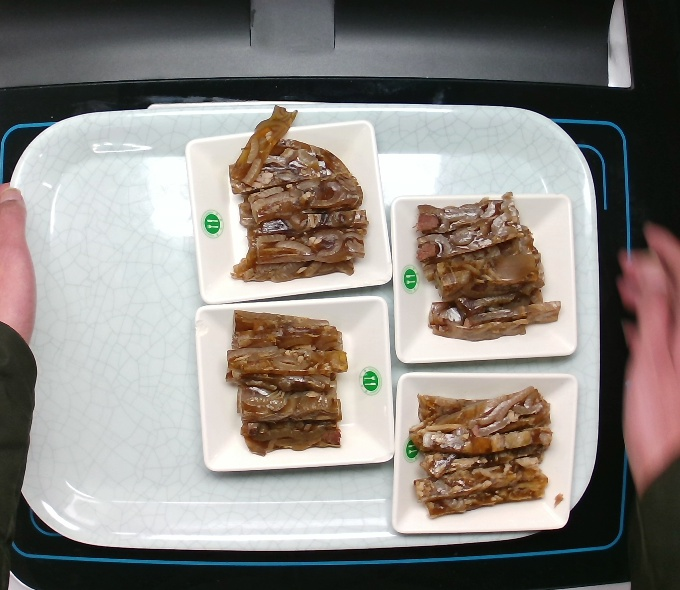wcq-DongZhuPi: (226, 104, 372, 284), (407, 192, 565, 348), (223, 307, 355, 457), (408, 386, 560, 516)
